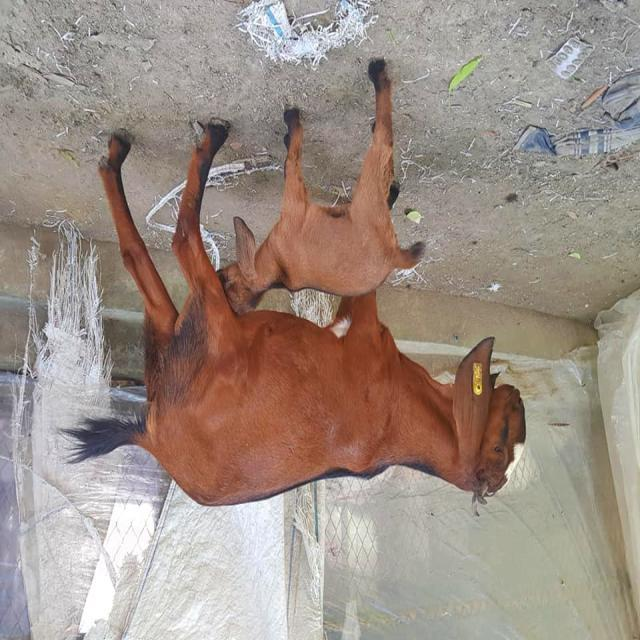Goat: (56, 119, 527, 518), (215, 60, 426, 318)
